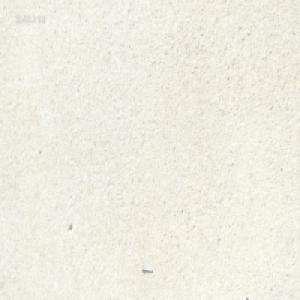Nail: (141, 266, 152, 274)
